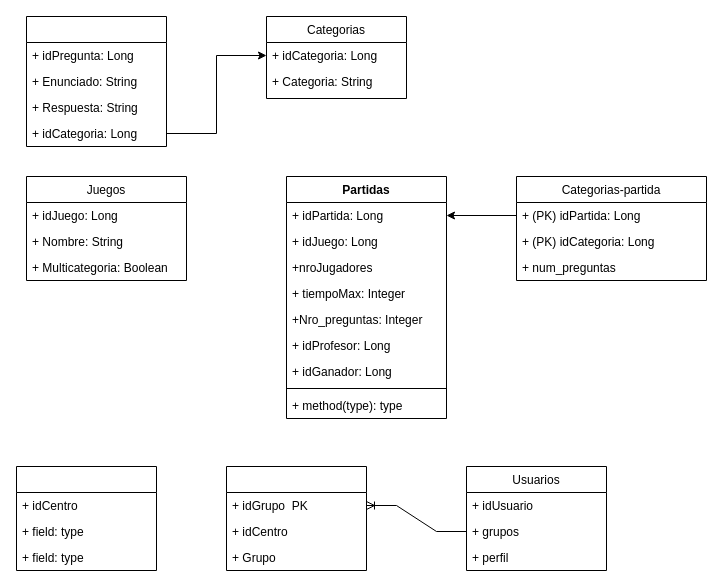
Image size: 723x587. Some labels were removed from this diagram. The box of each missing label's shape, as (x1, y1, x2, y2) in pixels:
Centros: (16, 466, 156, 570)
Grupos: (226, 466, 366, 570)
Preguntas: (26, 16, 166, 146)
